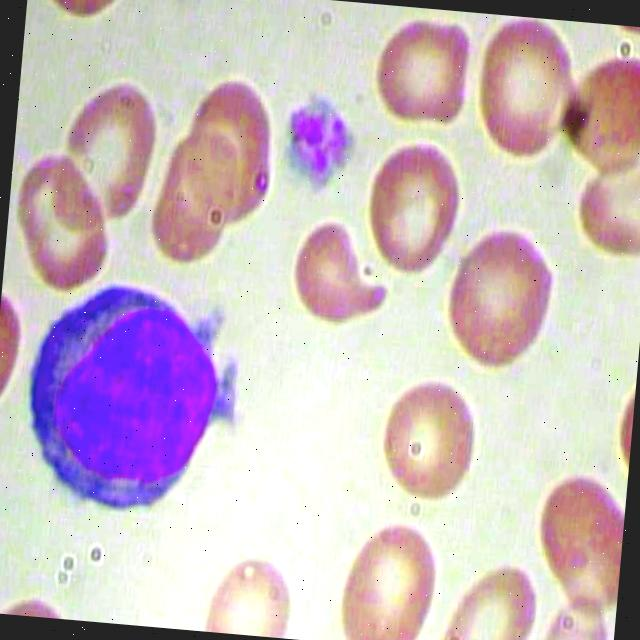RBC: (432, 218, 565, 388), (464, 13, 590, 164), (351, 130, 473, 285), (366, 372, 492, 508), (180, 70, 286, 224), (8, 140, 114, 294), (59, 73, 164, 227), (280, 196, 398, 332), (327, 511, 450, 640), (526, 468, 628, 620), (360, 3, 476, 135), (191, 538, 311, 640)
WBC: (5, 273, 256, 540)
